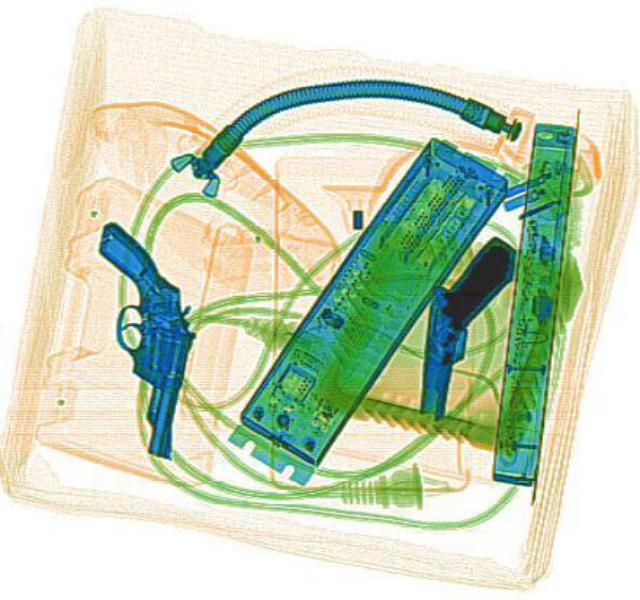Gun: (60, 218, 214, 454)
